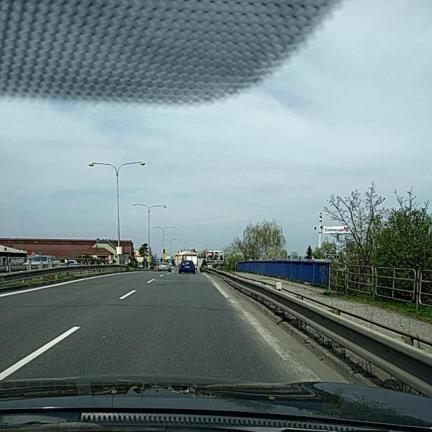Road: (0, 272, 343, 381)
